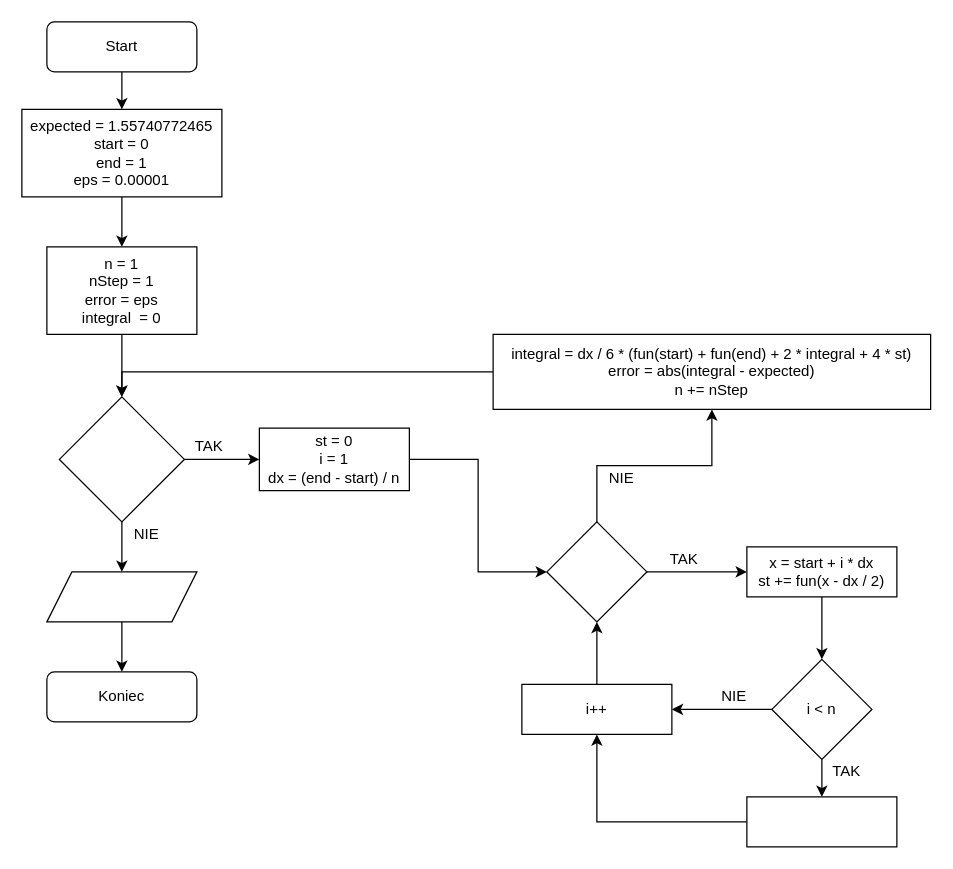
Image size: 953x869. Some labels were removed from this diagram. The shapes that lost their labels are listed below. From the top down, each one's centre as x and y in pixels, then its label:
the point at 121,459: error >= eps
the point at 596,571: i <= n
the point at 121,596: Wypisz integral
the point at 821,821: integral += fun(x)
